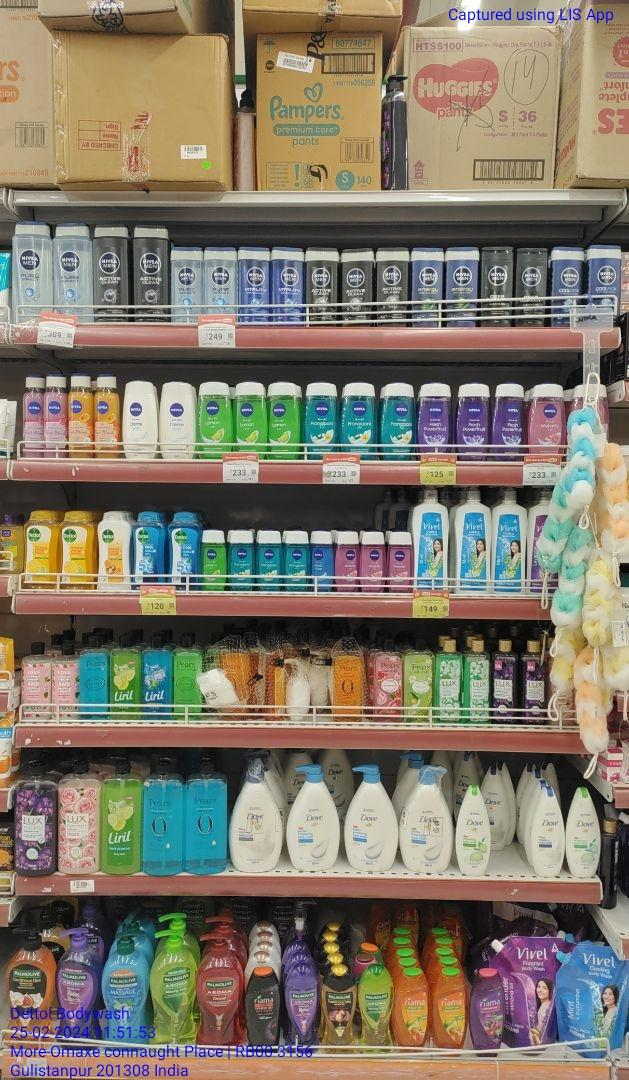Dettol_Bodywash_Cool: (168, 511, 198, 587), (135, 511, 164, 586)
Dettol_Bodywash_Refresh: (61, 511, 95, 589), (25, 510, 58, 588)
Dettol_Nourish_Body_Wash_250ML: (96, 511, 132, 590)
Dove_Deep_Moisture_Body_Wash_250ML: (531, 788, 565, 878)
Dove_Refreshing_Body_Wash_250ML: (456, 784, 490, 878), (568, 790, 598, 877)
Fiama_Shower_Gel_Peach_and_Avocado_250ML: (433, 971, 469, 1057), (396, 971, 427, 1052)
Liril_Cooling_Mint_Body_Wash_250ML: (142, 637, 174, 720)
Liril_Lime_and_Tea_Tree_Oil_Body_Wash_250ML: (111, 634, 139, 720)
Lux_Black_Orchid_Scent_and_Juniper_Oil_Body_Wash_245ML: (490, 639, 517, 725), (522, 639, 547, 725)
Lux_Body_Wash_Skin_Detox_Freesia_Scent_and_Alove_Vera_245ML: (437, 639, 462, 722), (465, 640, 489, 724)
Nivea_Shower_Gel_Frangipani_and_Oil_250ML: (341, 381, 377, 459), (380, 382, 414, 461), (304, 380, 337, 457)
Nivea_Shower_Gel_Fresh_Powerfruit_250ML: (419, 383, 451, 458), (495, 383, 526, 460), (459, 383, 489, 461)
Nivea_Shower_Gel_Lemon_and_Oil_250ML: (197, 381, 232, 458), (233, 381, 267, 459), (270, 381, 301, 461)
Nivea_Shower_Gel_Waterlily_and_Oil_250ML: (533, 384, 566, 460)
Palmolive_Aroma_Morning_Tonic_Shower_Gel_250ML: (359, 968, 393, 1054)
Palmolive_Aroma_Relax_250ML: (283, 967, 319, 1053)
Palmolive_Luminous_Oils_Invigorating_Macadamia_Oil_With_Peony_250ML: (322, 965, 356, 1055)
Pears_Naturale_Aloe_Vera_Body_Wash_250ML: (403, 635, 435, 722)
Pears_Pure_Glycerin_and_Lemon_Flower_Extracts_Body_Wash_250ML: (175, 638, 204, 717)
Pears_Pure_Glycerin_and_Mint_Extracts_Body_Wash_250ML: (77, 634, 107, 720)
